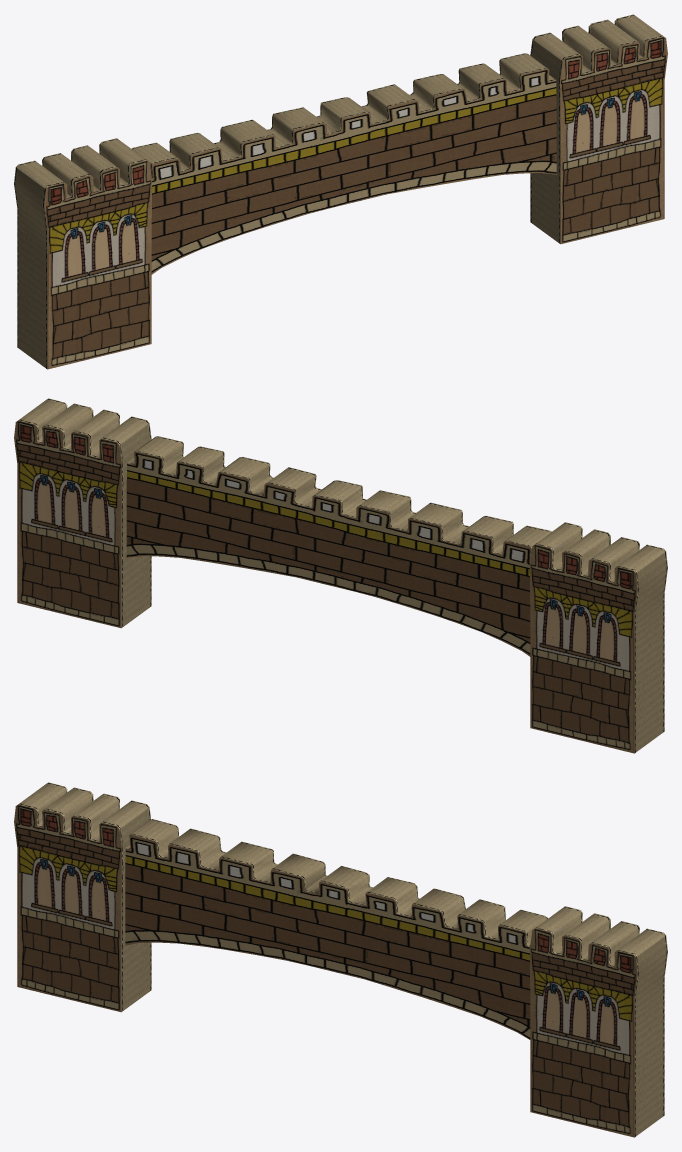
File: overpass.obj
3 renders of one model, top to bottom at view 1: azimuth 30°, elevation 25°; view 2: azimuth 150°, elevation 25°; view 3: azimuth 330°, elevation 25°, orthographic.
Parts seen in each view (by area): view 1: submesh_0, cardboard, cardedge; view 2: submesh_0, cardboard, cardedge; view 3: submesh_0, cardboard, cardedge.
Part boxes in pixels (box(x1,y1,x2,y2)): submesh_0: box(44, 36, 667, 369); cardboard: box(15, 16, 661, 367); cardedge: box(14, 14, 663, 368); submesh_0: box(14, 420, 637, 753); cardboard: box(20, 399, 665, 751); cardedge: box(18, 398, 667, 752); submesh_0: box(14, 804, 637, 1137); cardboard: box(20, 783, 665, 1135); cardedge: box(18, 782, 667, 1136).
Bounding box in the file's own units: 42.81 × 12.13 × 3.6.
3 materials, 3 textured.
